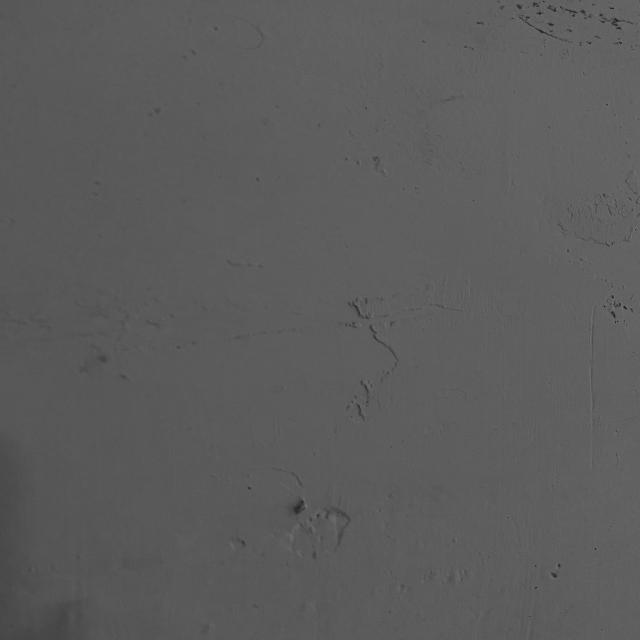rough and patchy surface: (281, 282, 460, 424), (0, 284, 156, 395), (223, 474, 381, 573), (544, 167, 640, 326), (440, 0, 640, 61), (1, 578, 108, 640), (507, 554, 586, 610), (584, 302, 603, 476), (327, 144, 391, 184)
